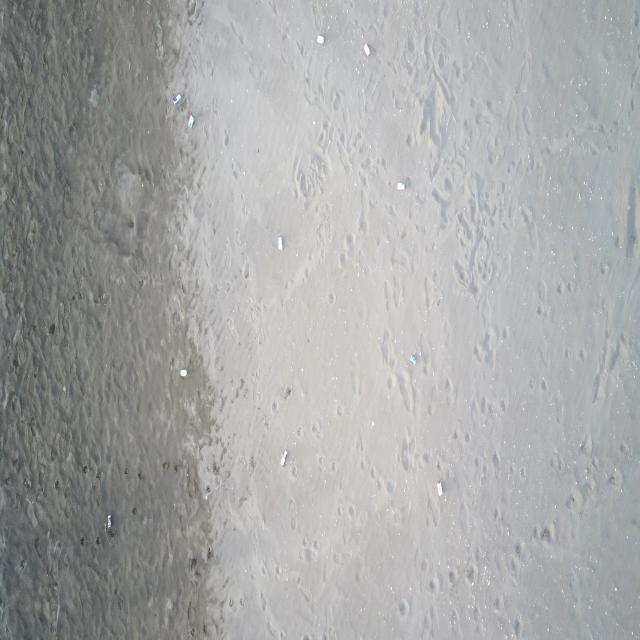Garbage: (105, 514, 111, 535), (280, 448, 287, 466), (172, 92, 180, 104), (276, 236, 283, 249), (436, 480, 442, 495), (316, 33, 324, 44), (409, 353, 417, 364), (187, 115, 193, 128), (396, 181, 403, 190), (364, 43, 369, 55), (179, 368, 186, 376)
